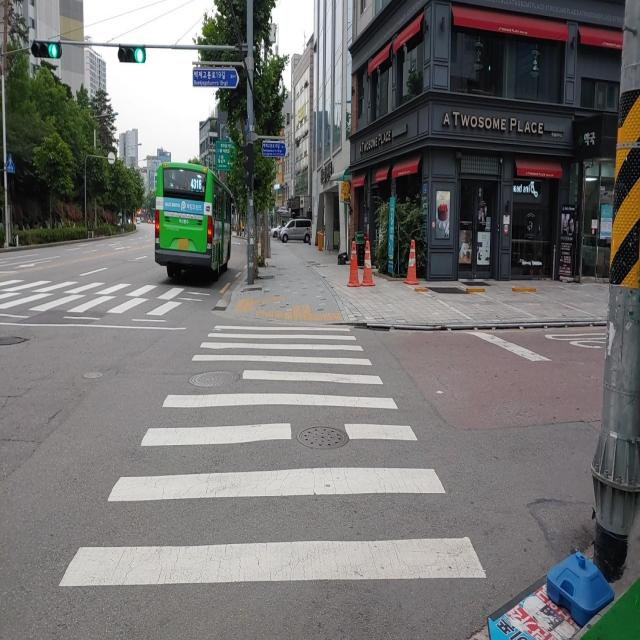횡단보도: (55, 322, 490, 593), (2, 281, 213, 315)
